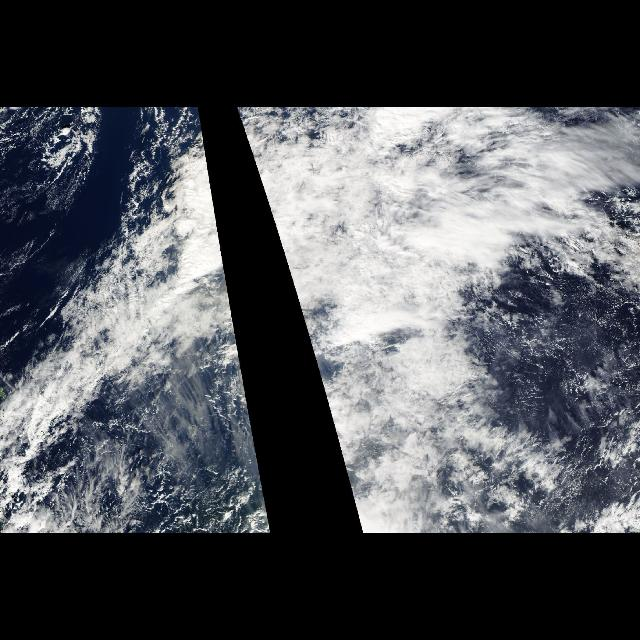Sugar: (505, 274, 639, 454), (4, 164, 70, 292)
